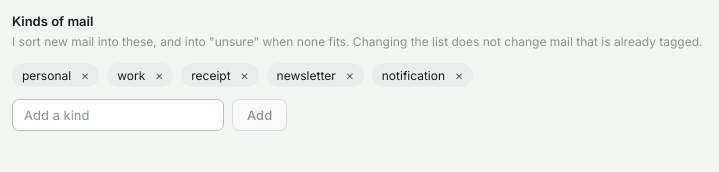
Test: the kinds editor › shows the words of a refused save
Click the button named "Remove work" at (159, 75), box [149,65,169,85]
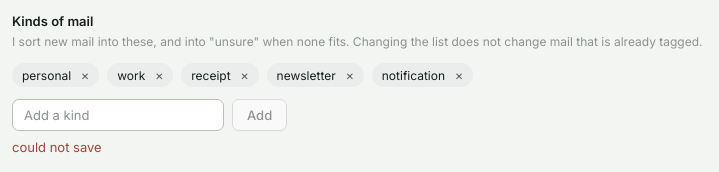
Result: the text with class "error" reads "could not save" at [12,139,102,155]
